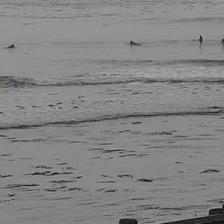surfer: (128, 40, 140, 45), (198, 35, 204, 43), (8, 43, 16, 48)
